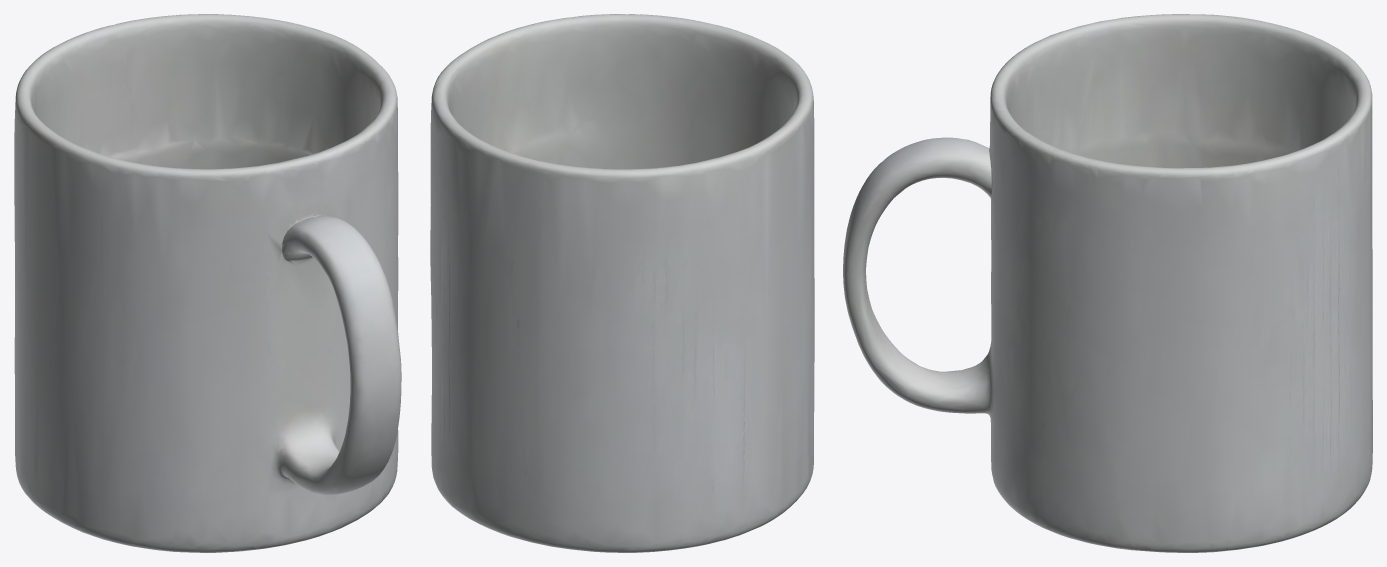
File: cup.glb
The picture shows the model from 3 angles, left to right: view 1: azimuth 30°, elevation 25°; view 2: azimuth 150°, elevation 25°; view 3: azimuth 270°, elevation 25°; orthographic projection.
Visible parts, largest first — view 1: model; view 2: model; view 3: model.
Boxes of the visible parts, x1,y1,x2,y2 form: model: (14, 14, 401, 552); model: (430, 14, 814, 552); model: (843, 14, 1372, 552).
Bounding box in the file's own units: 1.36 × 1.52 × 1.9.
Materials: 1 (1 with a texture image).
